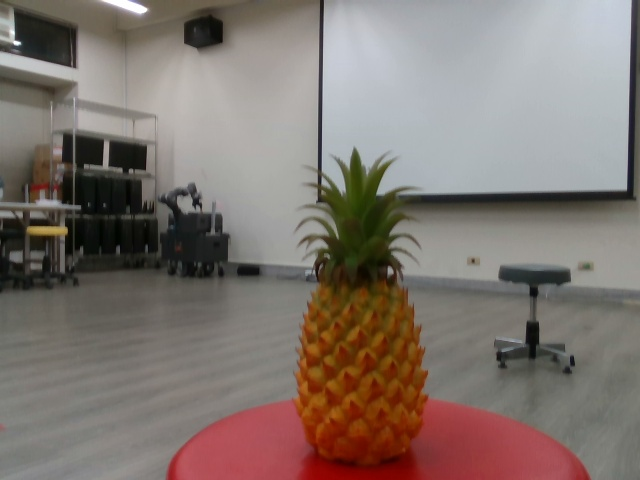pineapple: (293, 147, 430, 463)
